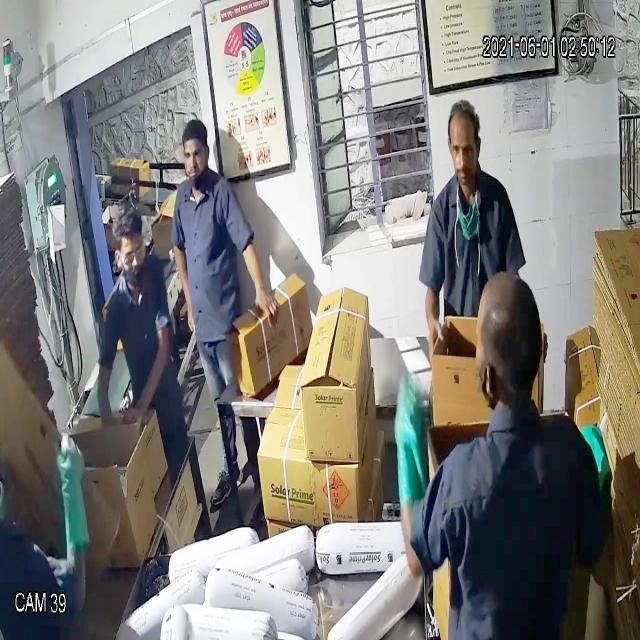glasses: (111, 241, 150, 275)
no-glass: (444, 131, 488, 165), (174, 139, 212, 169)
